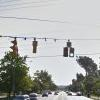Traffic light: (8, 29, 79, 65)
